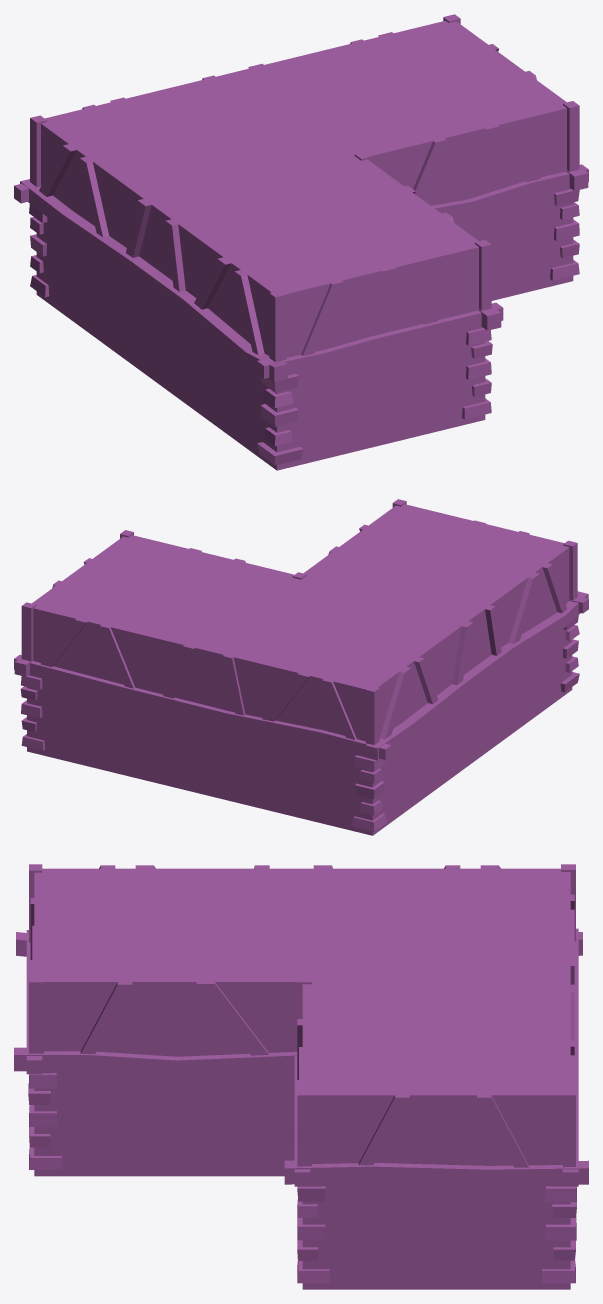
The model's file is House3.fbx.
The picture shows the model from 3 angles, top to bottom: view 1: azimuth 30°, elevation 25°; view 2: azimuth 150°, elevation 25°; view 3: azimuth 270°, elevation 25°; orthographic projection. The views are drawn at different scales.
Visible parts, largest first — view 1: House3; view 2: House3; view 3: House3.
Part boxes in pixels (x1,y1,x2,y2): House3: (14,14,588,470); House3: (14,499,588,835); House3: (14,864,588,1289).
Bounding box in the file's own units: 1075 × 404 × 1072.
